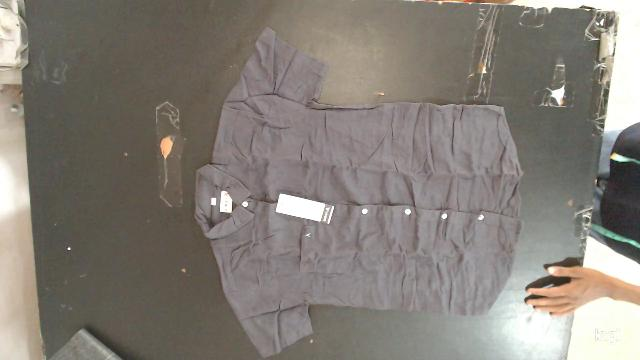new-garment: (195, 28, 522, 356)
